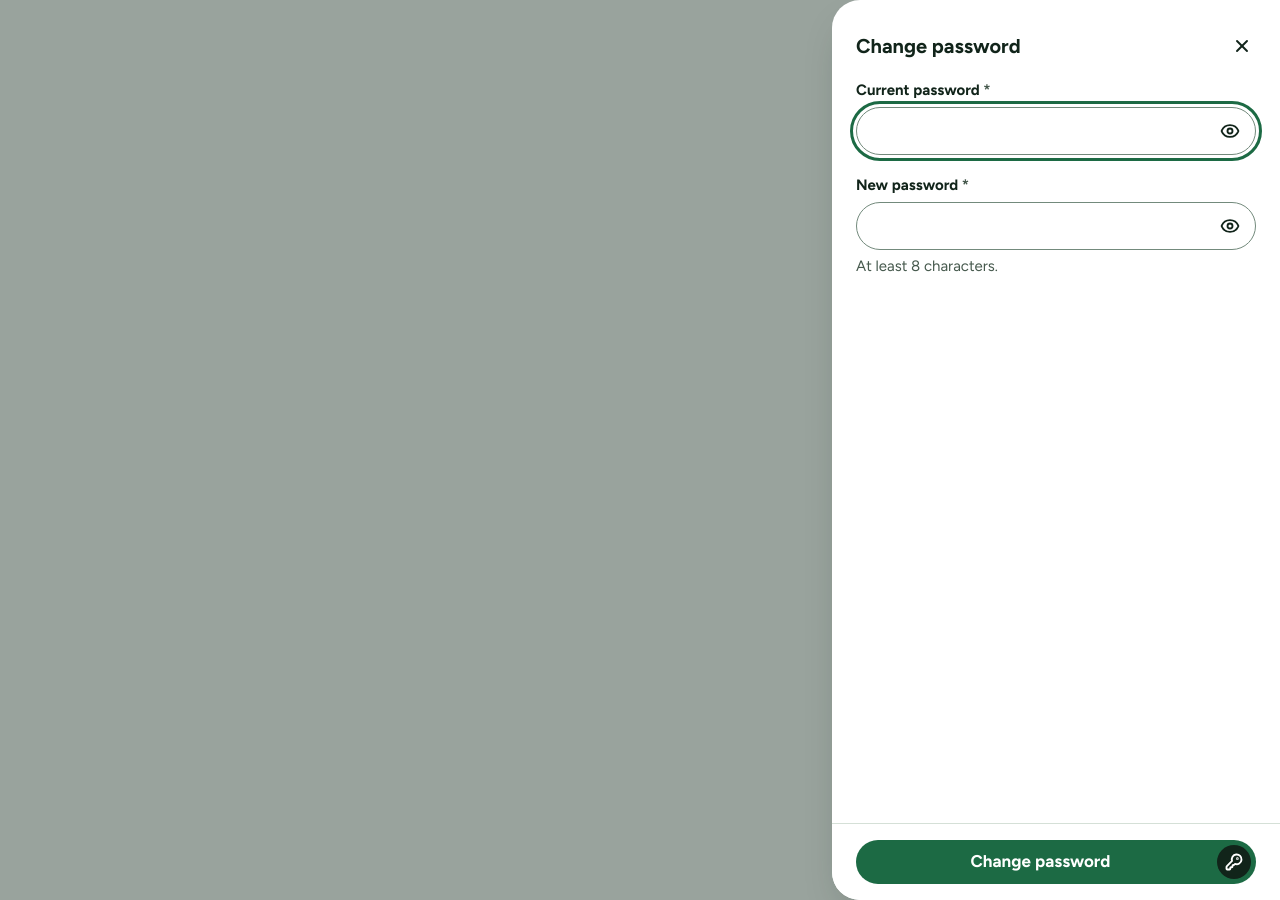
ChangePasswordSheet › checks both before sending anything
This screenshot has width=1280, height=900.
Click the button "Change password".
click(1056, 862)  # box [856,840,1256,884]
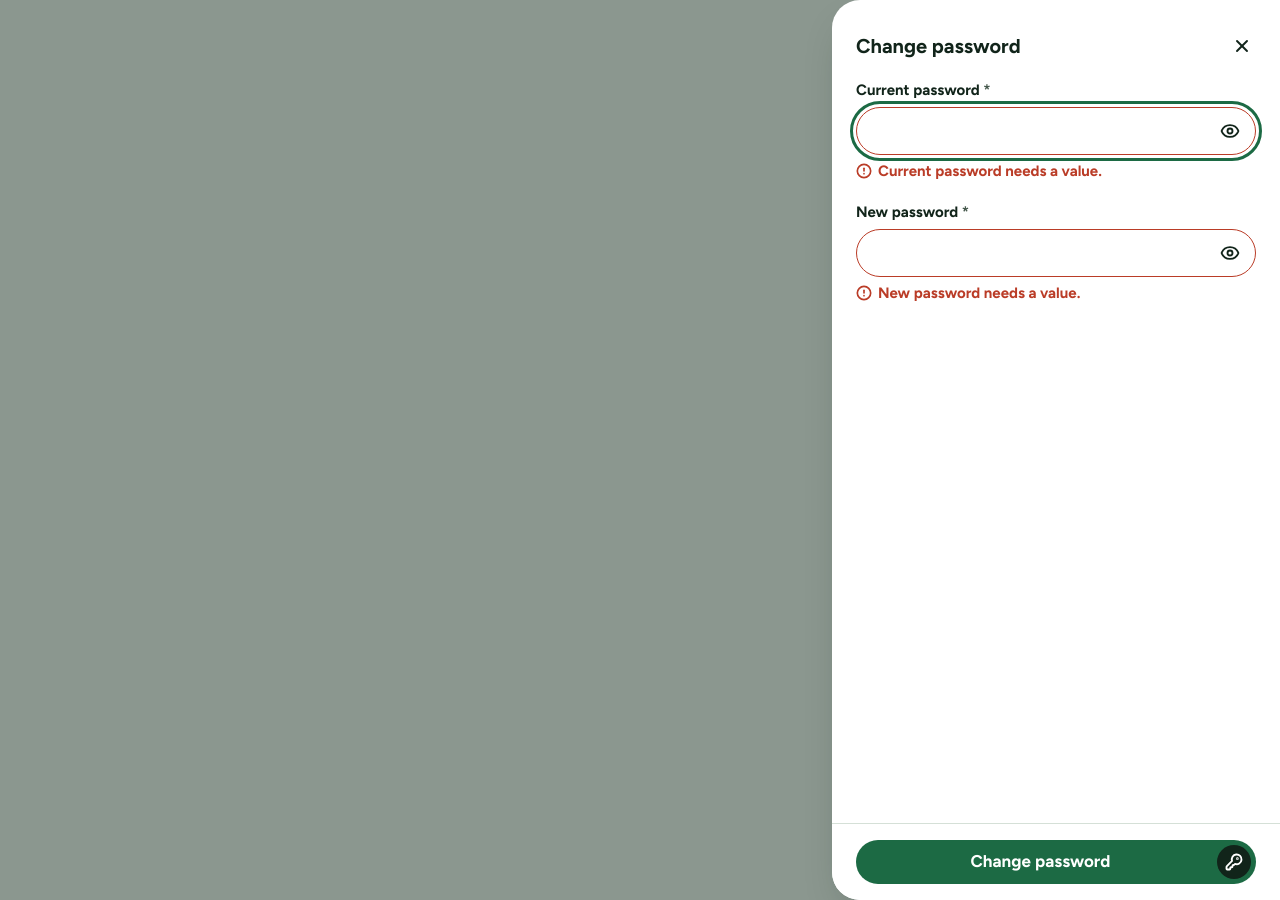
Expected: the text "Current password needs a value." is shown, [856,162,1102,180]
Expected: the text "New password needs a value." is shown, [856,284,1080,302]
